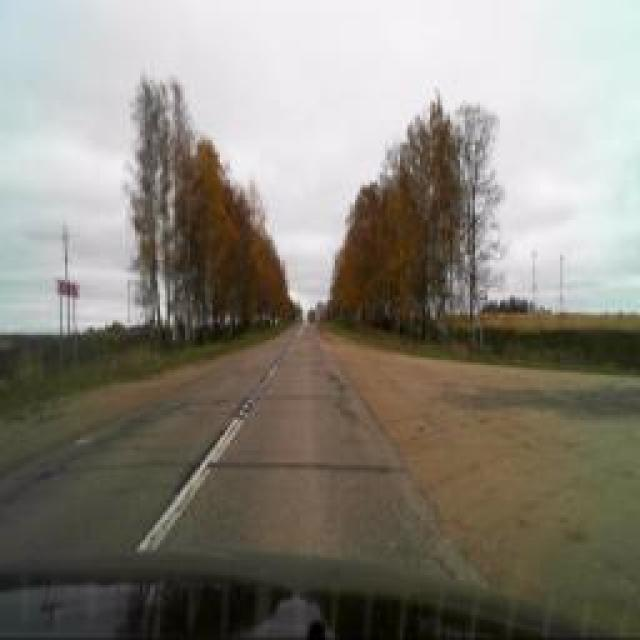sign: (479, 290, 489, 308)
